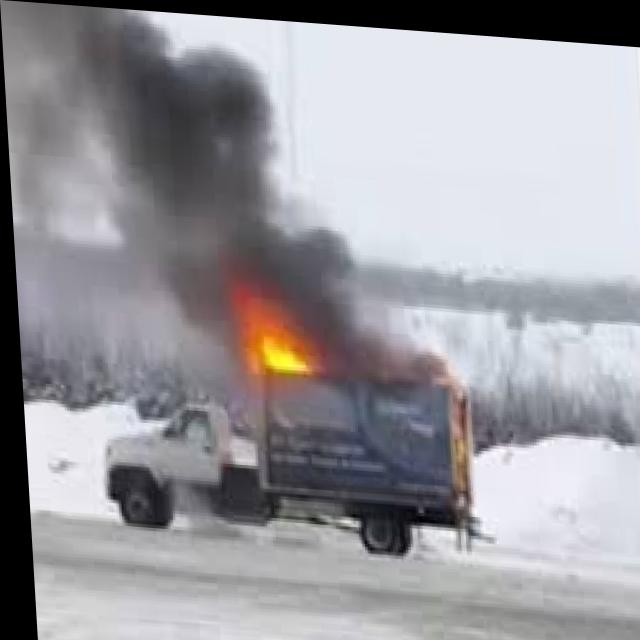fire: (221, 273, 336, 388)
